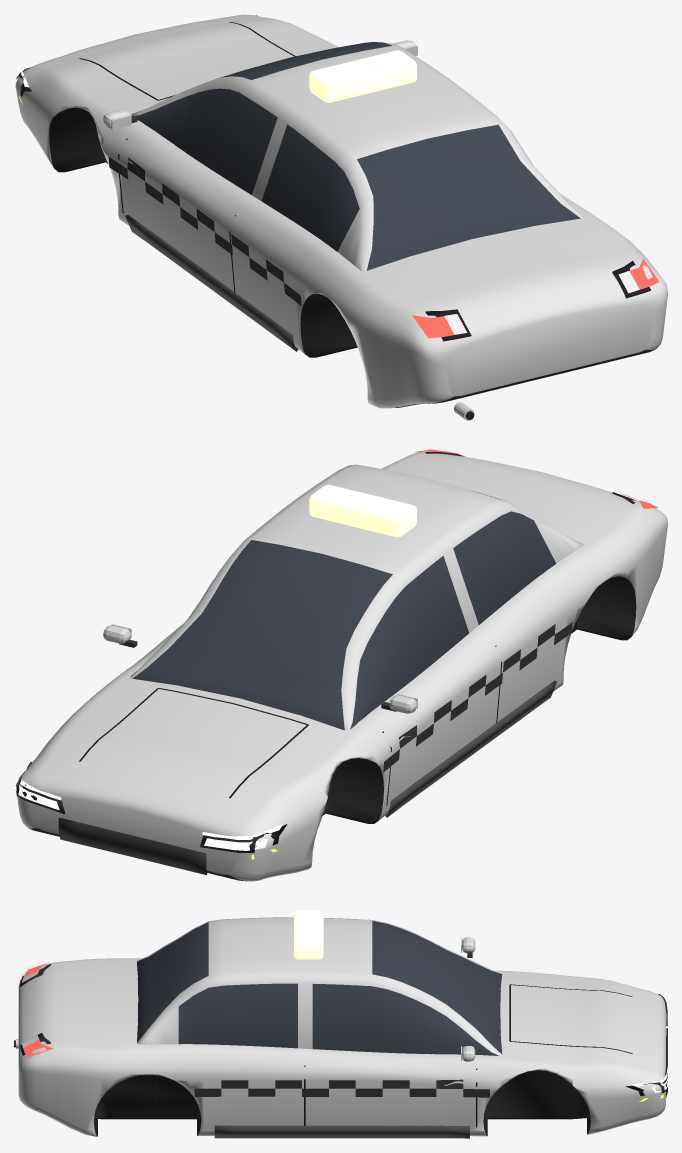
The model's file is civ_taxi.glb.
The picture shows the model from 3 angles, top to bottom: view 1: azimuth 30°, elevation 25°; view 2: azimuth 150°, elevation 25°; view 3: azimuth 270°, elevation 25°; orthographic projection. The views are drawn at different scales.
Visible parts, largest first — view 1: civ_taxi; view 2: civ_taxi; view 3: civ_taxi.
Part boxes in pixels (<box>): civ_taxi: <box>14,14,667,420</box>; civ_taxi: <box>14,449,667,881</box>; civ_taxi: <box>14,910,667,1138</box>.
Bounding box in the file's own units: 2.07 × 1.34 × 4.87.
